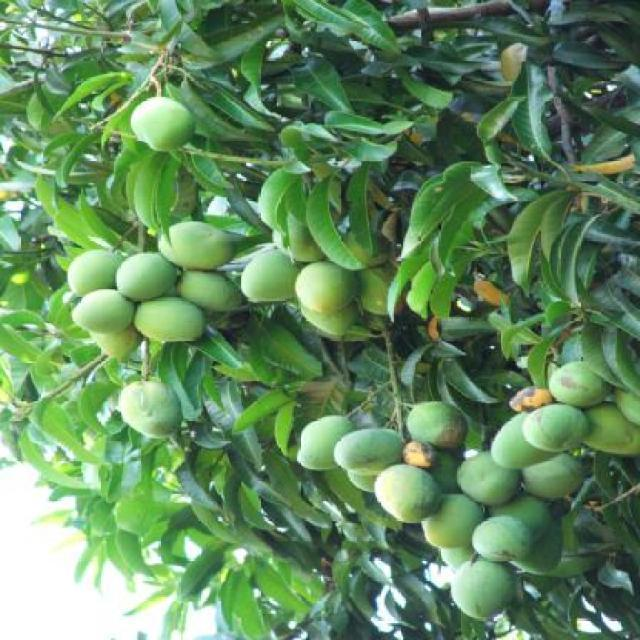Mango: (298, 360, 640, 616), (71, 210, 396, 358), (117, 246, 185, 302), (119, 378, 184, 434), (131, 98, 194, 148)
